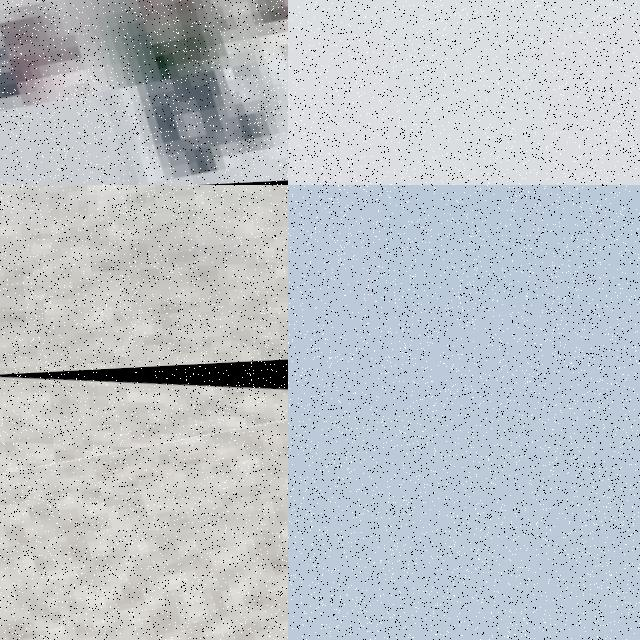drone: (0, 342, 288, 640), (0, 0, 288, 185)
